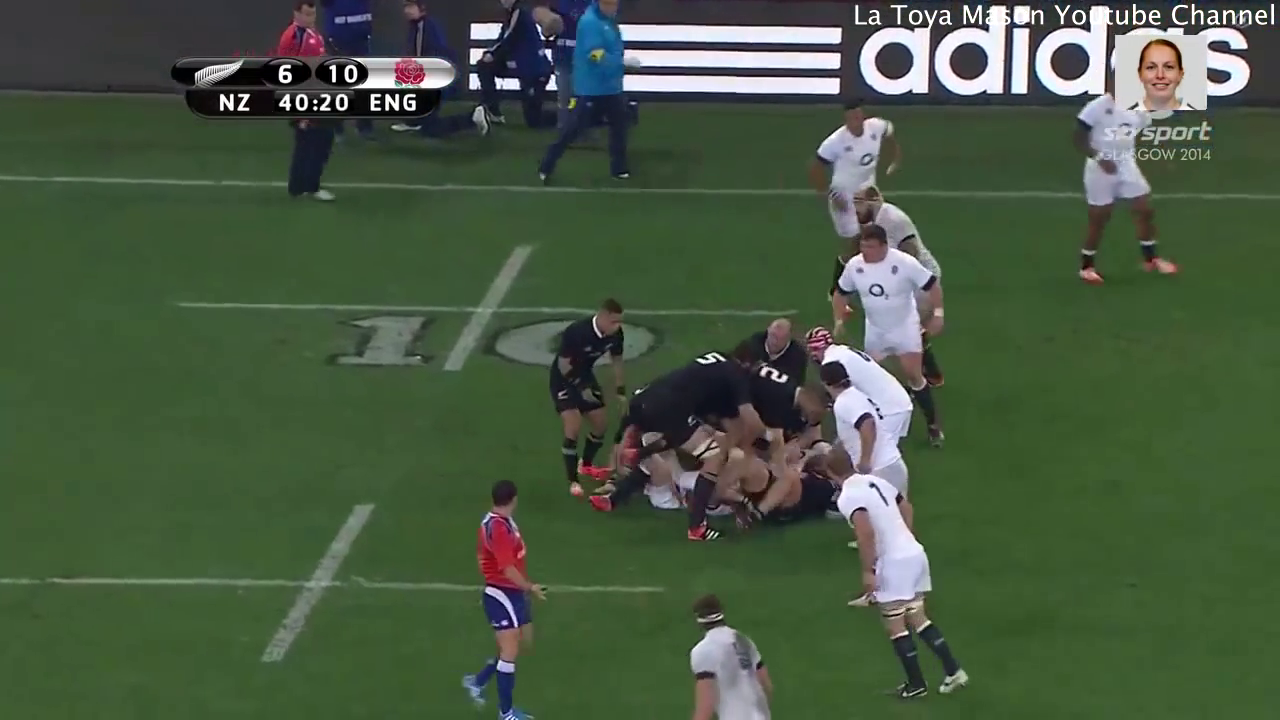player: (828, 448, 972, 702), (828, 230, 948, 450), (454, 472, 551, 720), (1072, 98, 1178, 292), (545, 292, 638, 504), (614, 344, 719, 472), (679, 587, 776, 720), (821, 104, 899, 232), (845, 180, 941, 267), (725, 358, 824, 431), (724, 312, 805, 376)
ruck: (613, 324, 891, 538)
